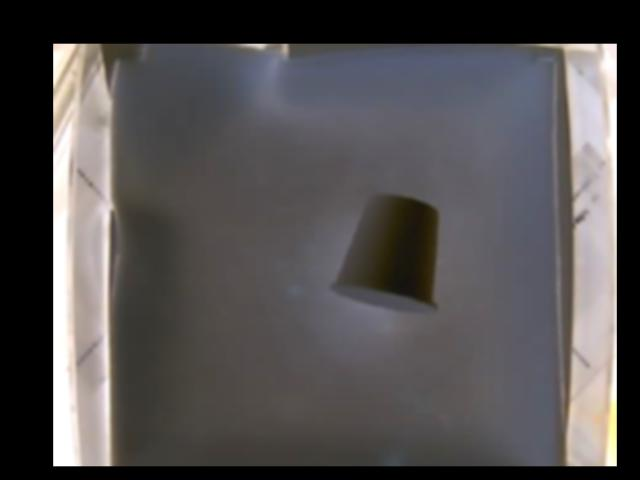Cup: (331, 195, 438, 315)
